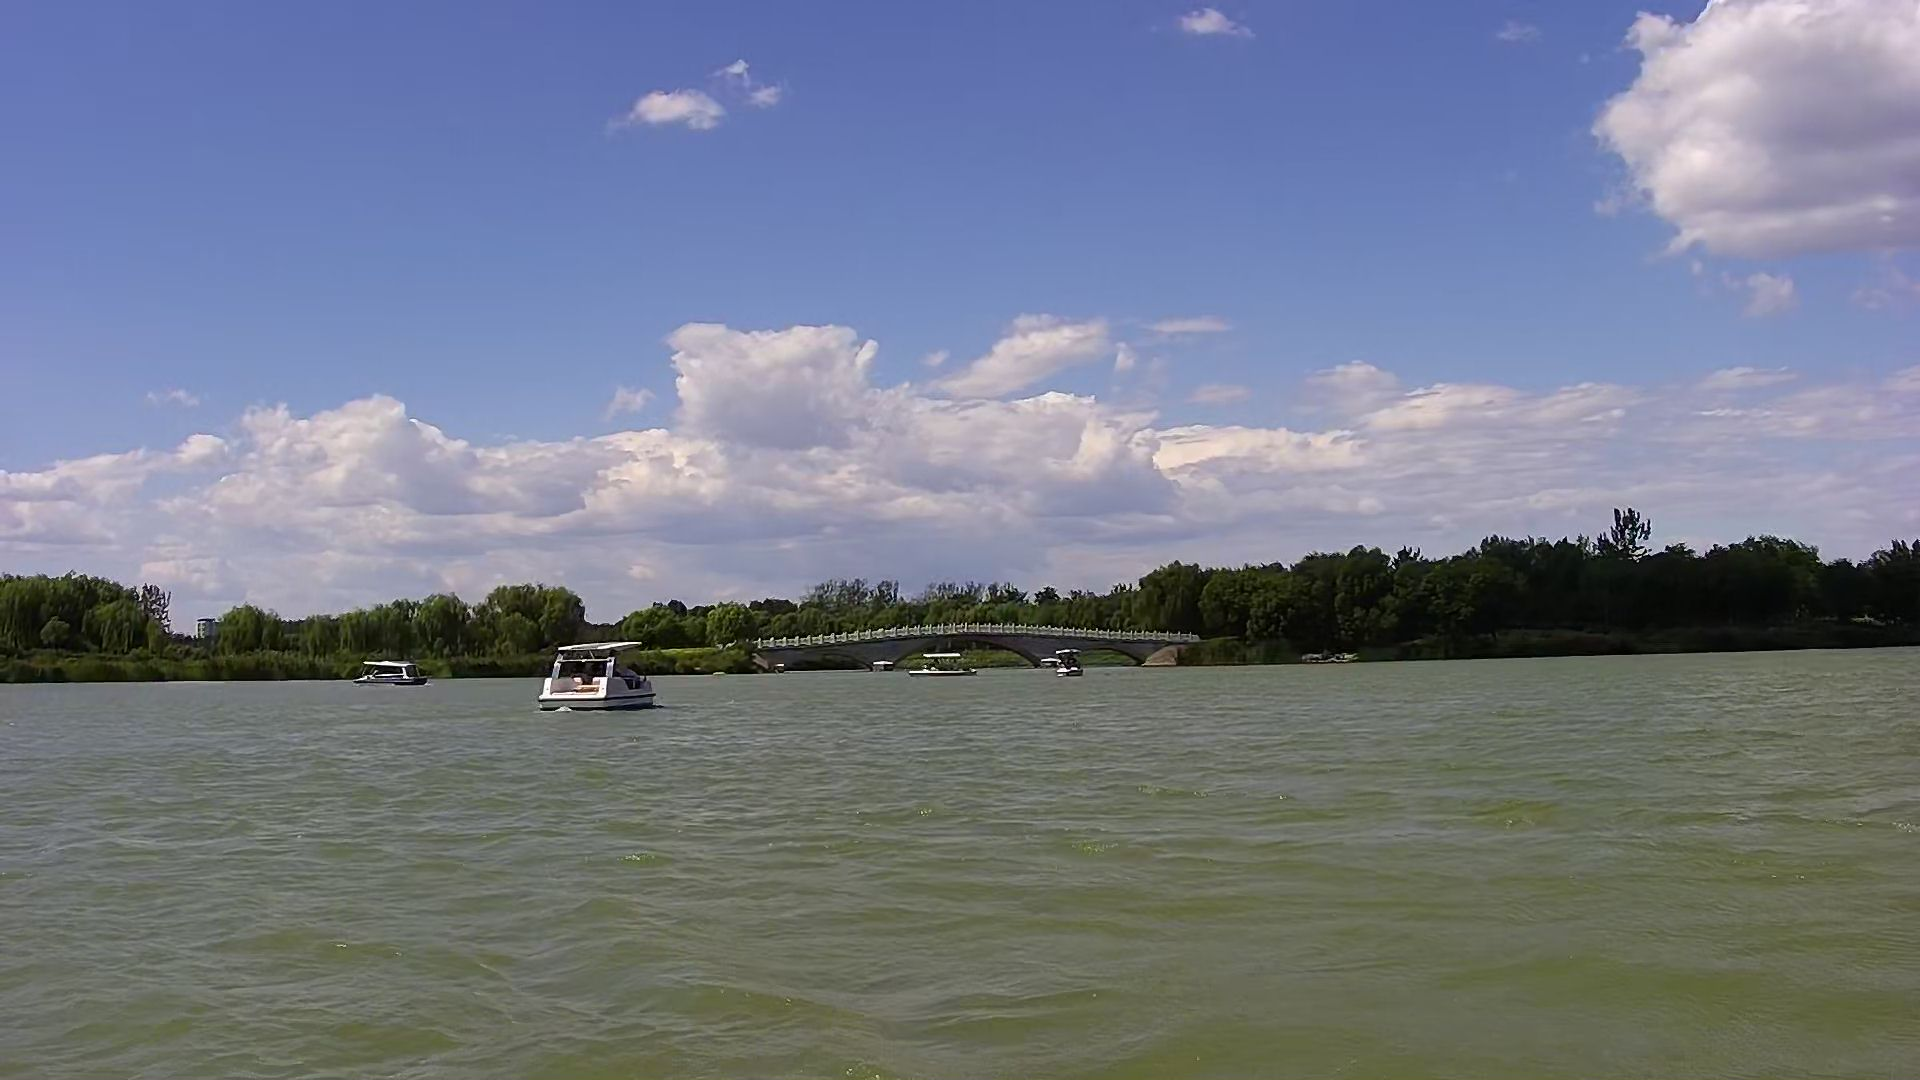boat: (537, 638, 657, 715), (909, 646, 978, 682), (360, 655, 429, 688)
bridge: (771, 617, 1166, 671)
